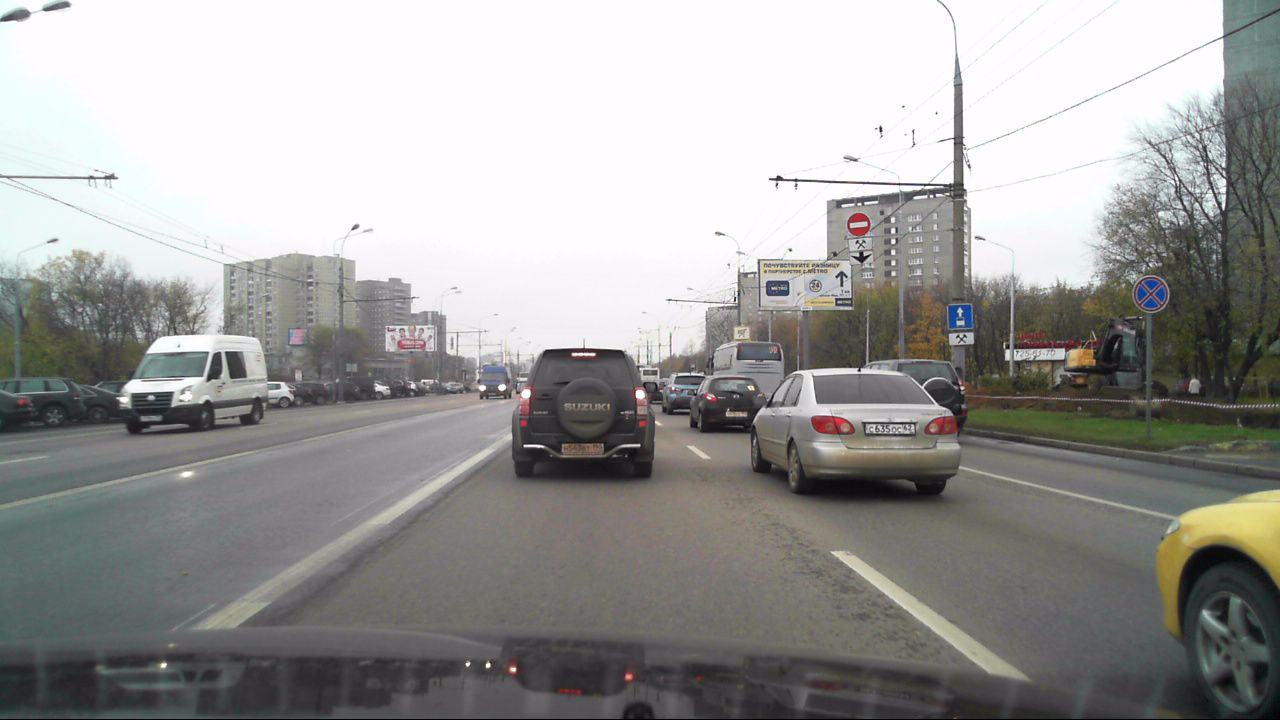No Parking: (1130, 275, 1168, 314)
